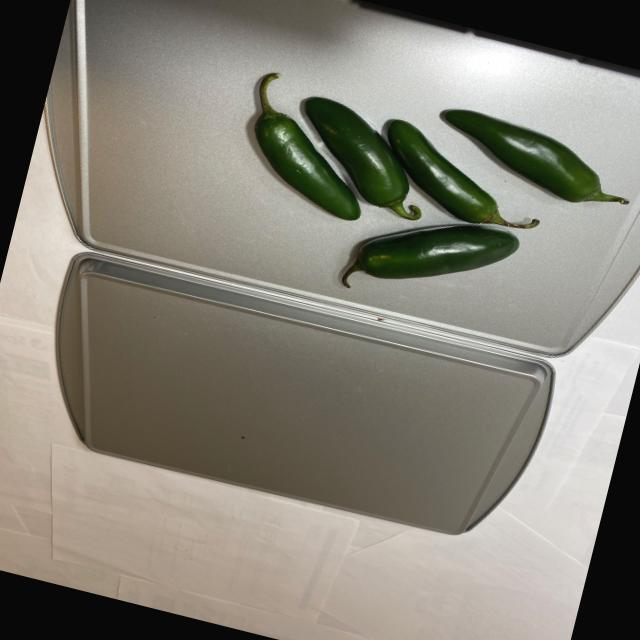chilli: (201, 50, 640, 348)
